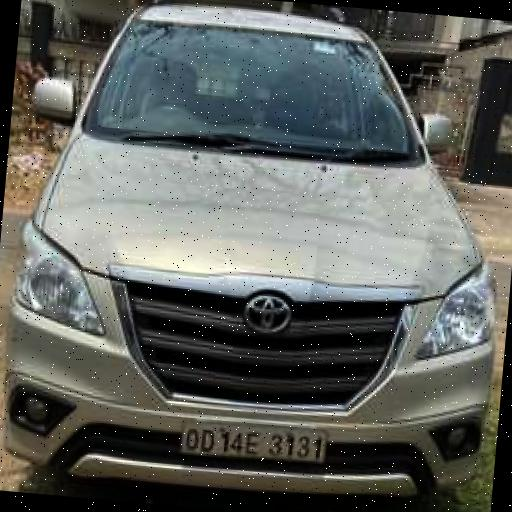license_plate`: (179, 415, 324, 462)
